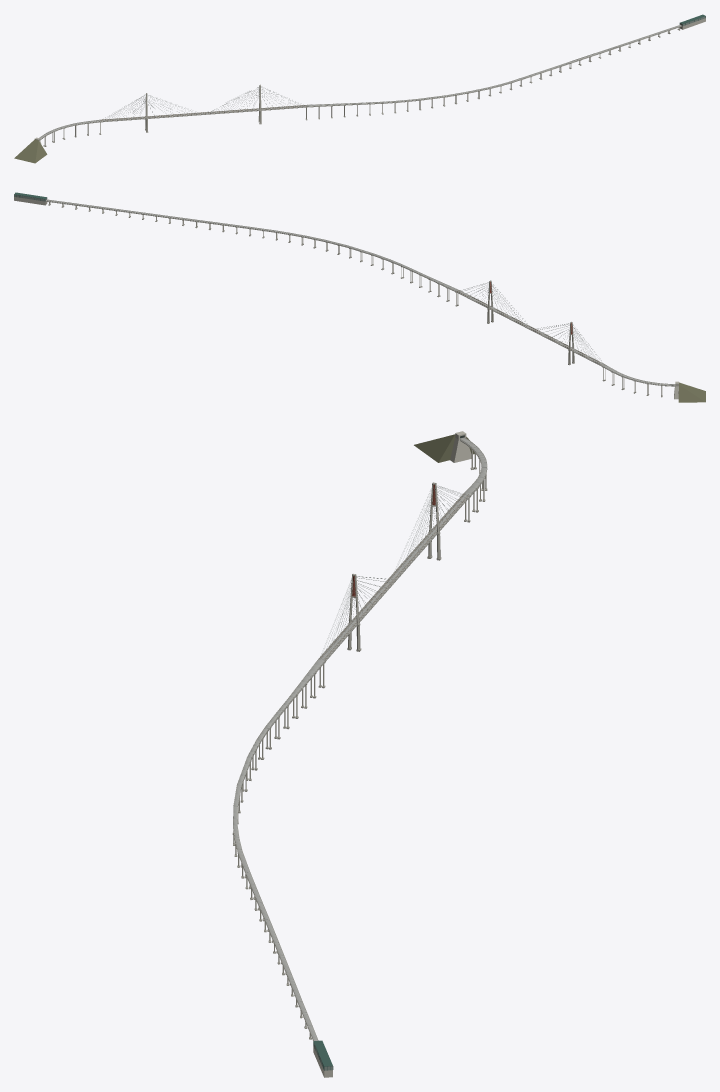
File: skybridge-vancouver-far.glb
3 views of the same model, one above another, from view 1: azimuth 30°, elevation 25°; view 2: azimuth 150°, elevation 25°; view 3: azimuth 270°, elevation 25° (orthographic). The views are drawn at different scales.
Visible parts, largest first — view 1: skybridge-vancouver-0-concrete, skybridge-vancouver-0-deck, skybridge-vancouver-0-earth, skybridge-vancouver-0-cable; view 2: skybridge-vancouver-0-concrete, skybridge-vancouver-0-deck, skybridge-vancouver-0-earth, skybridge-vancouver-0-cable; view 3: skybridge-vancouver-0-concrete, skybridge-vancouver-0-deck, skybridge-vancouver-0-cable.
Part boxes in pixels (x1,y1,x2,y2): skybridge-vancouver-0-concrete: [35, 18, 705, 146]; skybridge-vancouver-0-deck: [39, 25, 681, 139]; skybridge-vancouver-0-earth: [14, 139, 47, 163]; skybridge-vancouver-0-cable: [105, 86, 298, 118]; skybridge-vancouver-0-concrete: [14, 197, 678, 399]; skybridge-vancouver-0-deck: [46, 199, 675, 385]; skybridge-vancouver-0-earth: [678, 382, 705, 402]; skybridge-vancouver-0-cable: [460, 282, 601, 360]; skybridge-vancouver-0-concrete: [232, 431, 487, 1077]; skybridge-vancouver-0-deck: [233, 437, 487, 1040]; skybridge-vancouver-0-cable: [321, 486, 467, 656].
Bounding box in the file's own units: 2242 × 123 × 375.
